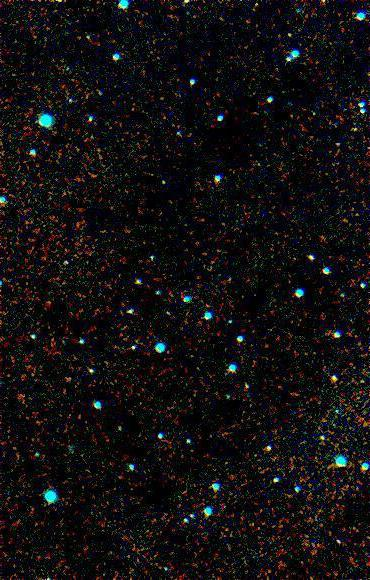star: (276, 19, 306, 49)
